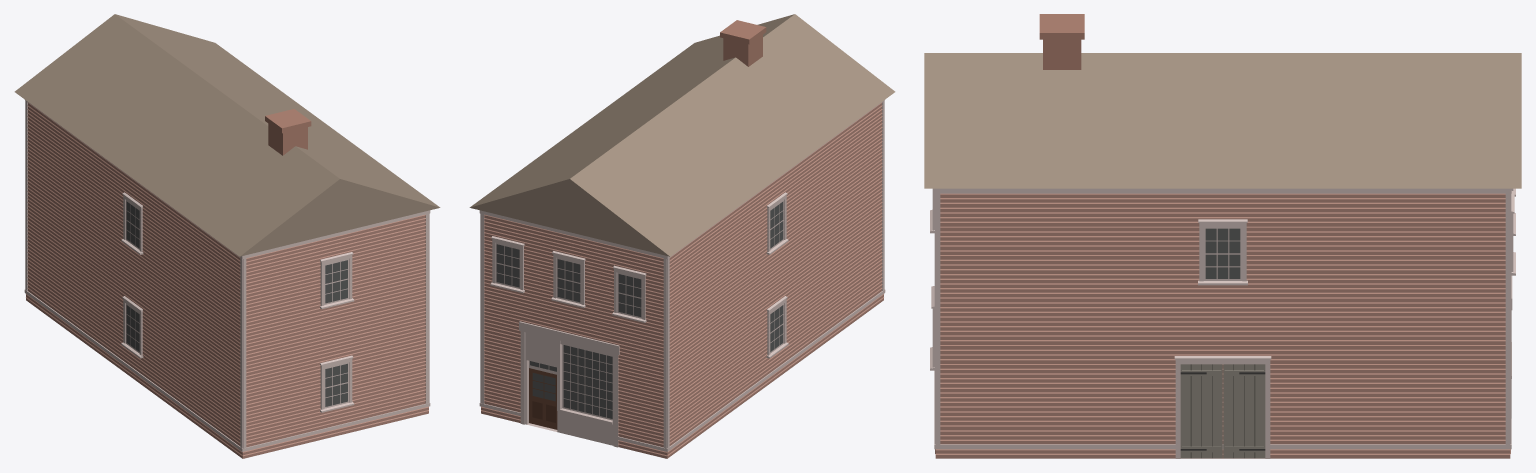
File: recon_1835_core_c3_048__inferred_1835.glb
3 renders of one model, left to right at view 1: azimuth 30°, elevation 25°; view 2: azimuth 150°, elevation 25°; view 3: azimuth 270°, elevation 25°, orthographic. The views are drawn at different scales.
Parts seen in each view (by area): view 1: recon_1835_core_c3_048__inferred_1835; view 2: recon_1835_core_c3_048__inferred_1835; view 3: recon_1835_core_c3_048__inferred_1835.
Part boxes in pixels (bbox=[...]): recon_1835_core_c3_048__inferred_1835: bbox=[14, 14, 440, 458]; recon_1835_core_c3_048__inferred_1835: bbox=[469, 14, 895, 458]; recon_1835_core_c3_048__inferred_1835: bbox=[924, 14, 1521, 458].
Bounding box in the file's own units: 6.71 × 9.02 × 13.03.
